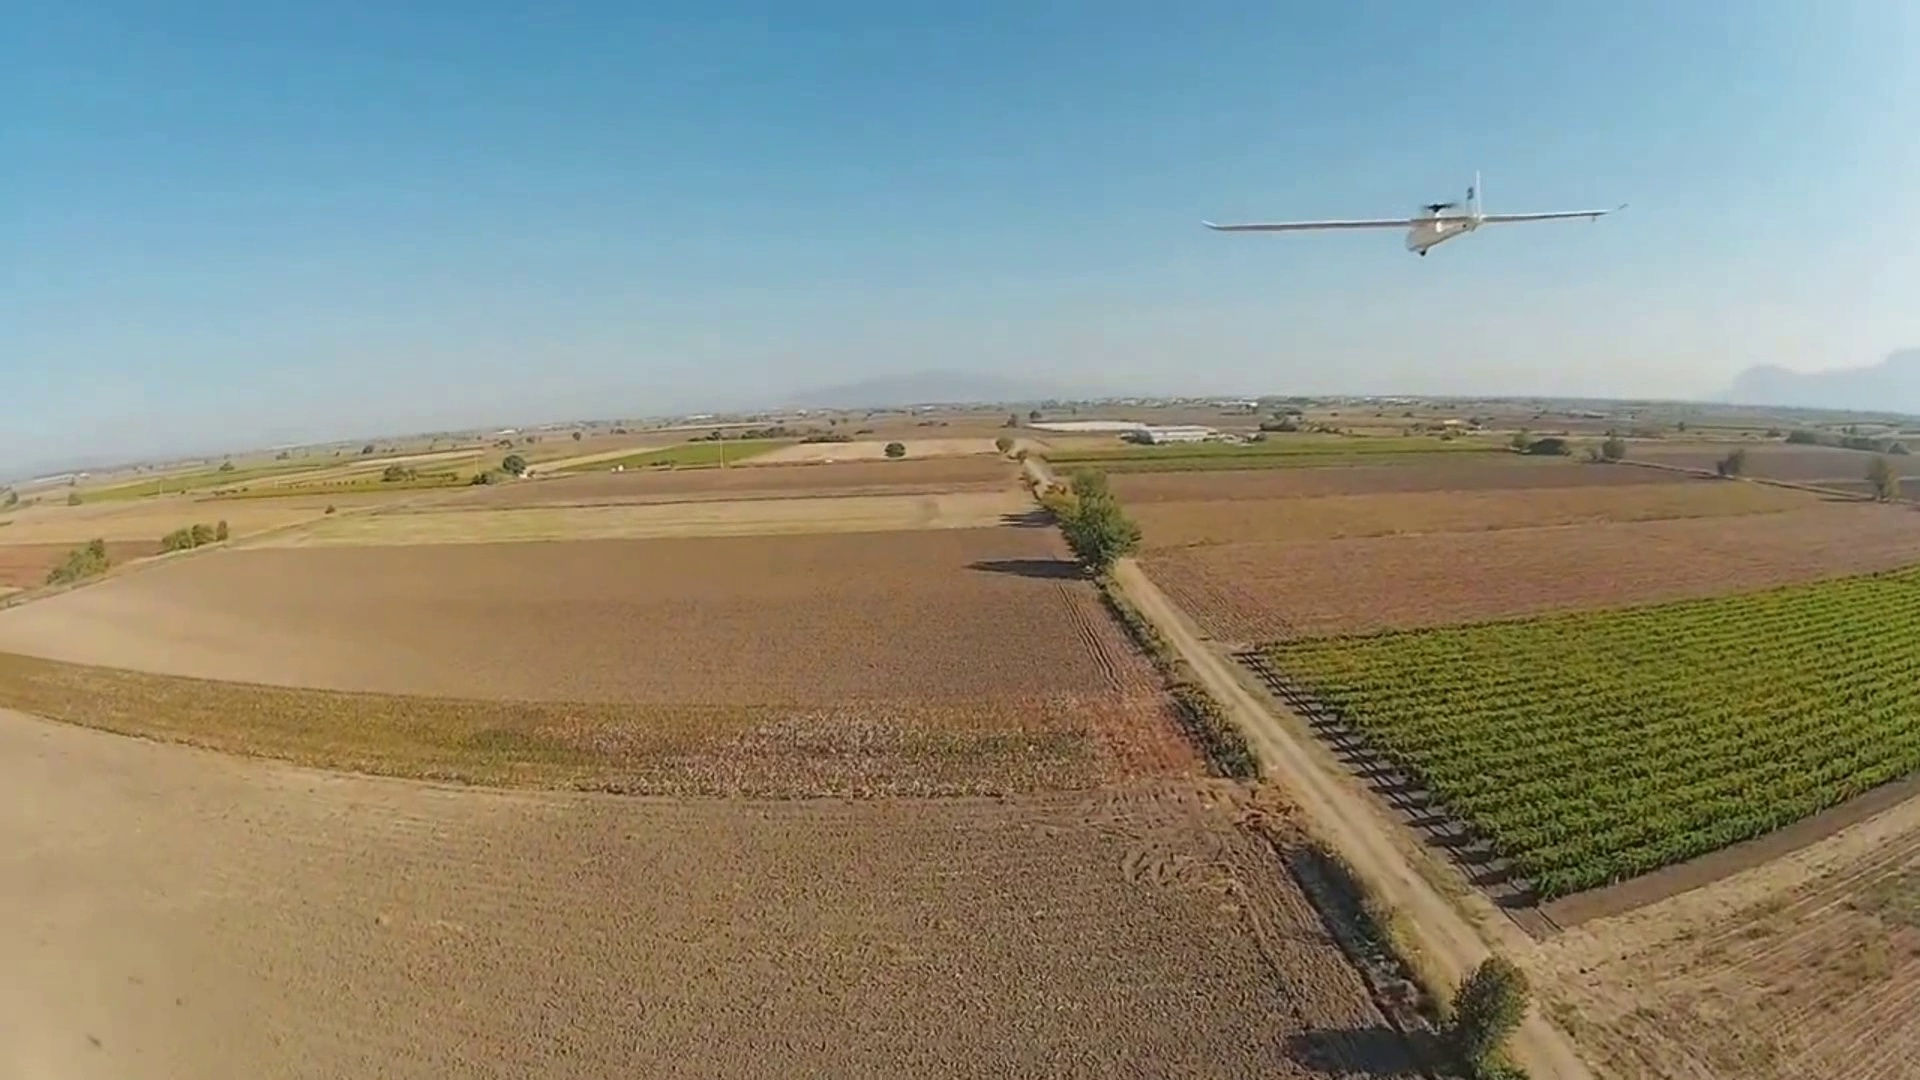airplane: (1203, 173, 1622, 257)
